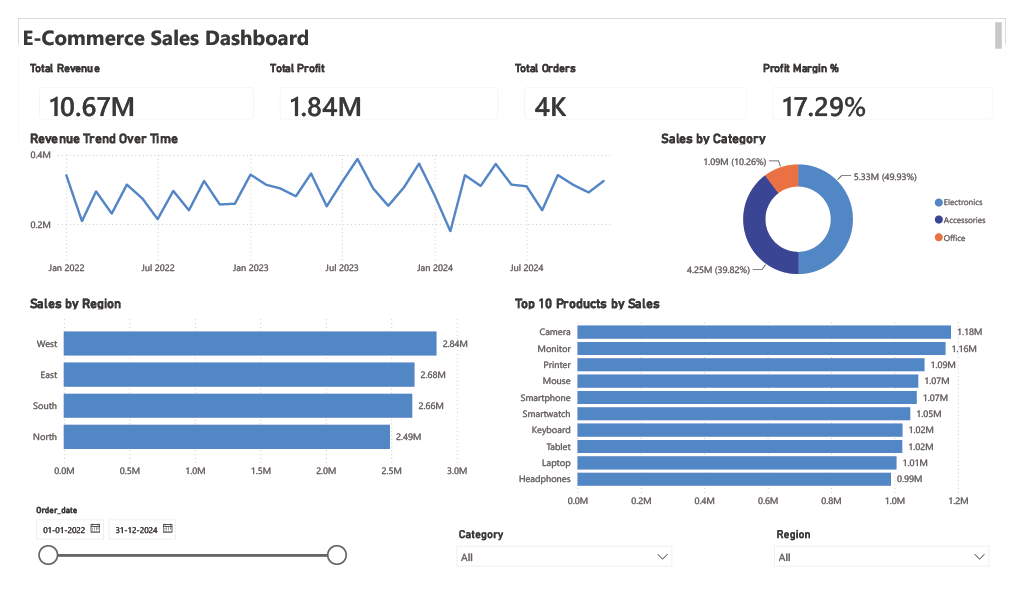

The dashboard page shown, as its layout file describes it:
{"tool":"powerbi","page":{"name":"E-Commerce Sales Dashboard","canvas":[1280,720],"ordinal":0},"visuals":[{"type":"cardVisual","title":"Total Revenue","fields":{"Data":["Measures_Table.Total Revenue"]},"box":[9.6,54.9,312.9,93.3],"z":0},{"type":"cardVisual","title":"Total Profit","fields":{"Data":["Measures_Table.Total Profit"]},"box":[322.5,54.9,317,93.3],"z":1000},{"type":"cardVisual","title":"Total Orders","fields":{"Data":["Measures_Table.Total Orders"]},"box":[639.5,54.9,321.1,93.3],"z":2000},{"type":"cardVisual","title":"Profit Margin %","fields":{"Data":["Measures_Table.Profit Margin %"]},"box":[960.6,54.9,319.7,93.3],"z":3000},{"type":"lineChart","title":"Revenue Trend Over Time","fields":{"Y":["Sum(ecommerce_sales sales.sales)"],"Category":["ecommerce_sales sales.order_date.Variation.Date Hierarchy.Year","ecommerce_sales sales.order_date.Variation.Date Hierarchy.Month"]},"box":[9.6,144.1,776.7,197.6],"z":4000},{"type":"donutChart","title":"Sales by Category","fields":{"Category":["ecommerce_sales sales.category"],"Y":["Sum(ecommerce_sales sales.sales)"]},"box":[828.8,144.1,440.5,214.1],"z":5000},{"type":"clusteredBarChart","title":"Sales by Region","fields":{"Category":["ecommerce_sales sales.region"],"Y":["Sum(ecommerce_sales sales.sales)"]},"box":[9.6,358.1,592.8,247],"z":6000},{"type":"clusteredBarChart","title":"Top 10 Products by Sales","fields":{"Category":["ecommerce_sales sales.product_name"],"Y":["Sum(ecommerce_sales sales.sales)"]},"box":[639.5,358.1,629.8,285.4],"z":7000},{"type":"slicer","fields":{"Values":["ecommerce_sales sales.order_date"]},"box":[9.6,631.2,424,83.7],"z":8000},{"type":"slicer","fields":{"Values":["ecommerce_sales sales.region"]},"box":[970.2,655.9,299.1,64.5],"z":9000},{"type":"slicer","fields":{"Values":["ecommerce_sales sales.category"]},"box":[558.5,655.9,299.1,59],"z":10000},{"type":"textbox","box":[0,0,1280,45.3],"z":11000}]}

Visuals, with their boxes in screenshot pixels (x1, y1, x2, y2), scaled from the page's 1280x720 canvas onto the 1024x592 screenshot:
"Total Revenue" cardVisual: [8, 45, 258, 122]
"Total Profit" cardVisual: [258, 45, 512, 122]
"Total Orders" cardVisual: [512, 45, 768, 122]
"Profit Margin %" cardVisual: [768, 45, 1023, 122]
"Revenue Trend Over Time" lineChart: [8, 118, 629, 281]
"Sales by Category" donutChart: [663, 118, 1015, 295]
"Sales by Region" clusteredBarChart: [8, 294, 482, 498]
"Top 10 Products by Sales" clusteredBarChart: [512, 294, 1015, 529]
slicer - ecommerce_sales sales.order_date: [8, 519, 347, 588]
slicer - ecommerce_sales sales.region: [776, 539, 1015, 591]
slicer - ecommerce_sales sales.category: [447, 539, 686, 588]
textbox: [0, 0, 1023, 37]
